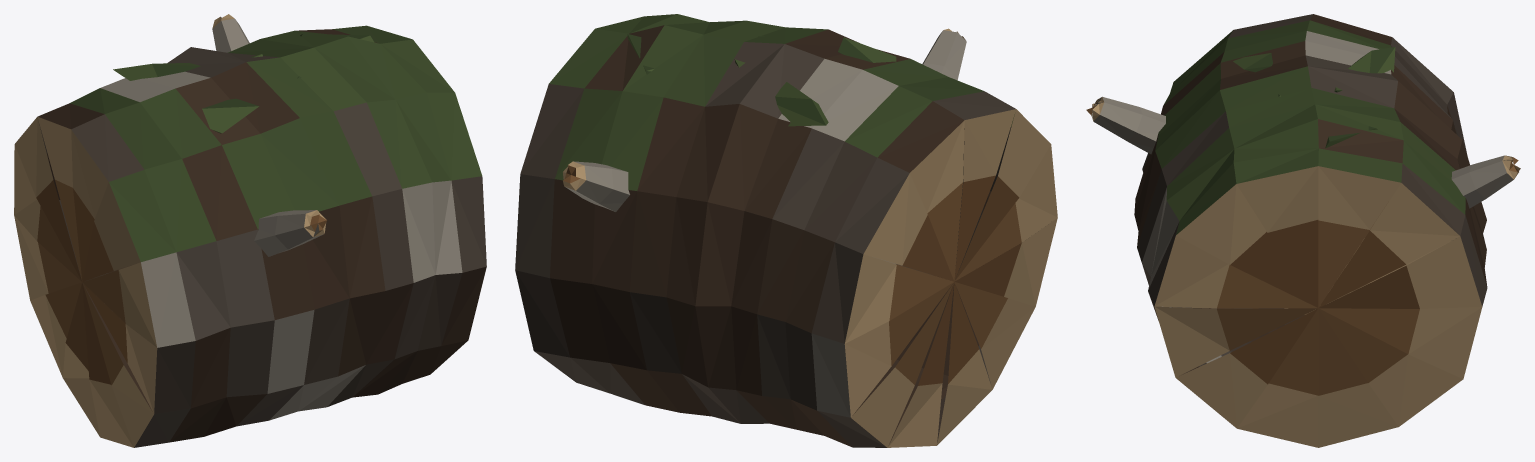
File: fallen-log.glb
3 renders of one model, left to right at view 1: azimuth 30°, elevation 25°; view 2: azimuth 150°, elevation 25°; view 3: azimuth 270°, elevation 25°, orthographic. The views are drawn at different scales.
Parts seen in each view (by area): view 1: fallen-log; view 2: fallen-log; view 3: fallen-log.
Boxes of the visible parts, <box> form: fallen-log: <box>14,14,486,447</box>; fallen-log: <box>515,14,1057,447</box>; fallen-log: <box>1086,14,1520,447</box>.
Bounding box in the file's own units: 1.11 × 1.04 × 1.28.
